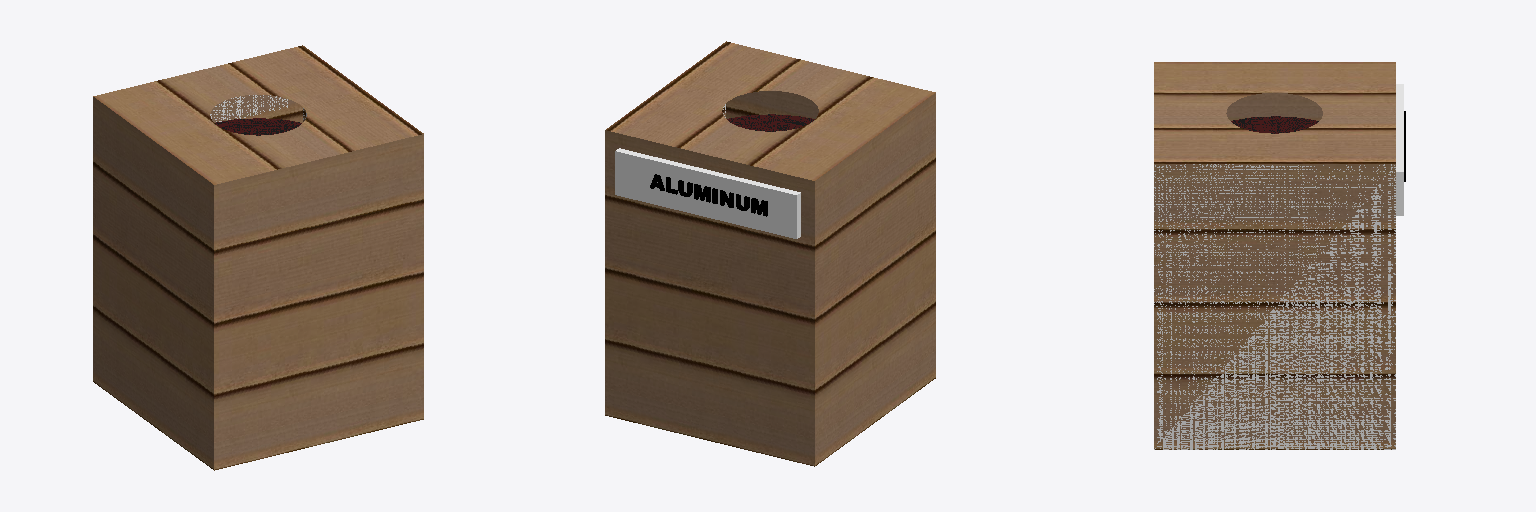
3 views of the same model, side by side, from view 1: azimuth 30°, elevation 25°; view 2: azimuth 150°, elevation 25°; view 3: azimuth 270°, elevation 25° (orthographic).
Visible parts, largest first — view 1: mesh18_mesh18-geometry, mesh19_mesh19-geometry; view 2: mesh18_mesh18-geometry, mesh19_mesh19-geometry; view 3: mesh18_mesh18-geometry, mesh19_mesh19-geometry.
Part boxes in pixels (left/top/right/bottom): mesh18_mesh18-geometry: left=93, top=45, right=423, bottom=470; mesh19_mesh19-geometry: left=215, top=118, right=301, bottom=135; mesh18_mesh18-geometry: left=605, top=41, right=935, bottom=466; mesh19_mesh19-geometry: left=727, top=114, right=814, bottom=131; mesh18_mesh18-geometry: left=1154, top=62, right=1403, bottom=449; mesh19_mesh19-geometry: left=1231, top=116, right=1318, bottom=133.
Bounding box in the file's own units: 0.5145 × 0.6688 × 0.5367.
Materials: 7 (1 with a texture image).